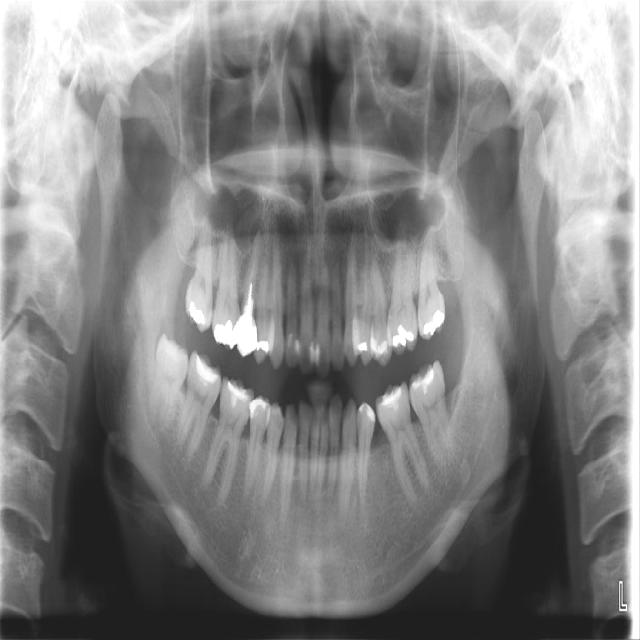Crown: (236, 307, 257, 360)
Filling: (211, 311, 241, 350), (193, 353, 221, 392), (223, 377, 249, 413), (409, 365, 437, 393), (421, 310, 445, 338), (388, 325, 414, 349), (381, 385, 401, 412), (250, 397, 271, 421), (187, 300, 204, 326), (370, 335, 387, 359), (255, 338, 273, 358), (356, 406, 374, 424), (355, 339, 370, 358)
impacted tooth: (147, 336, 189, 431)
